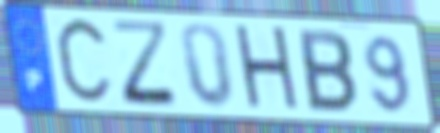0: (179, 20, 236, 113)
9: (361, 32, 412, 116)
B: (296, 26, 360, 117)
C: (52, 13, 116, 112)
H: (231, 22, 305, 118)
Z: (108, 17, 183, 111)
